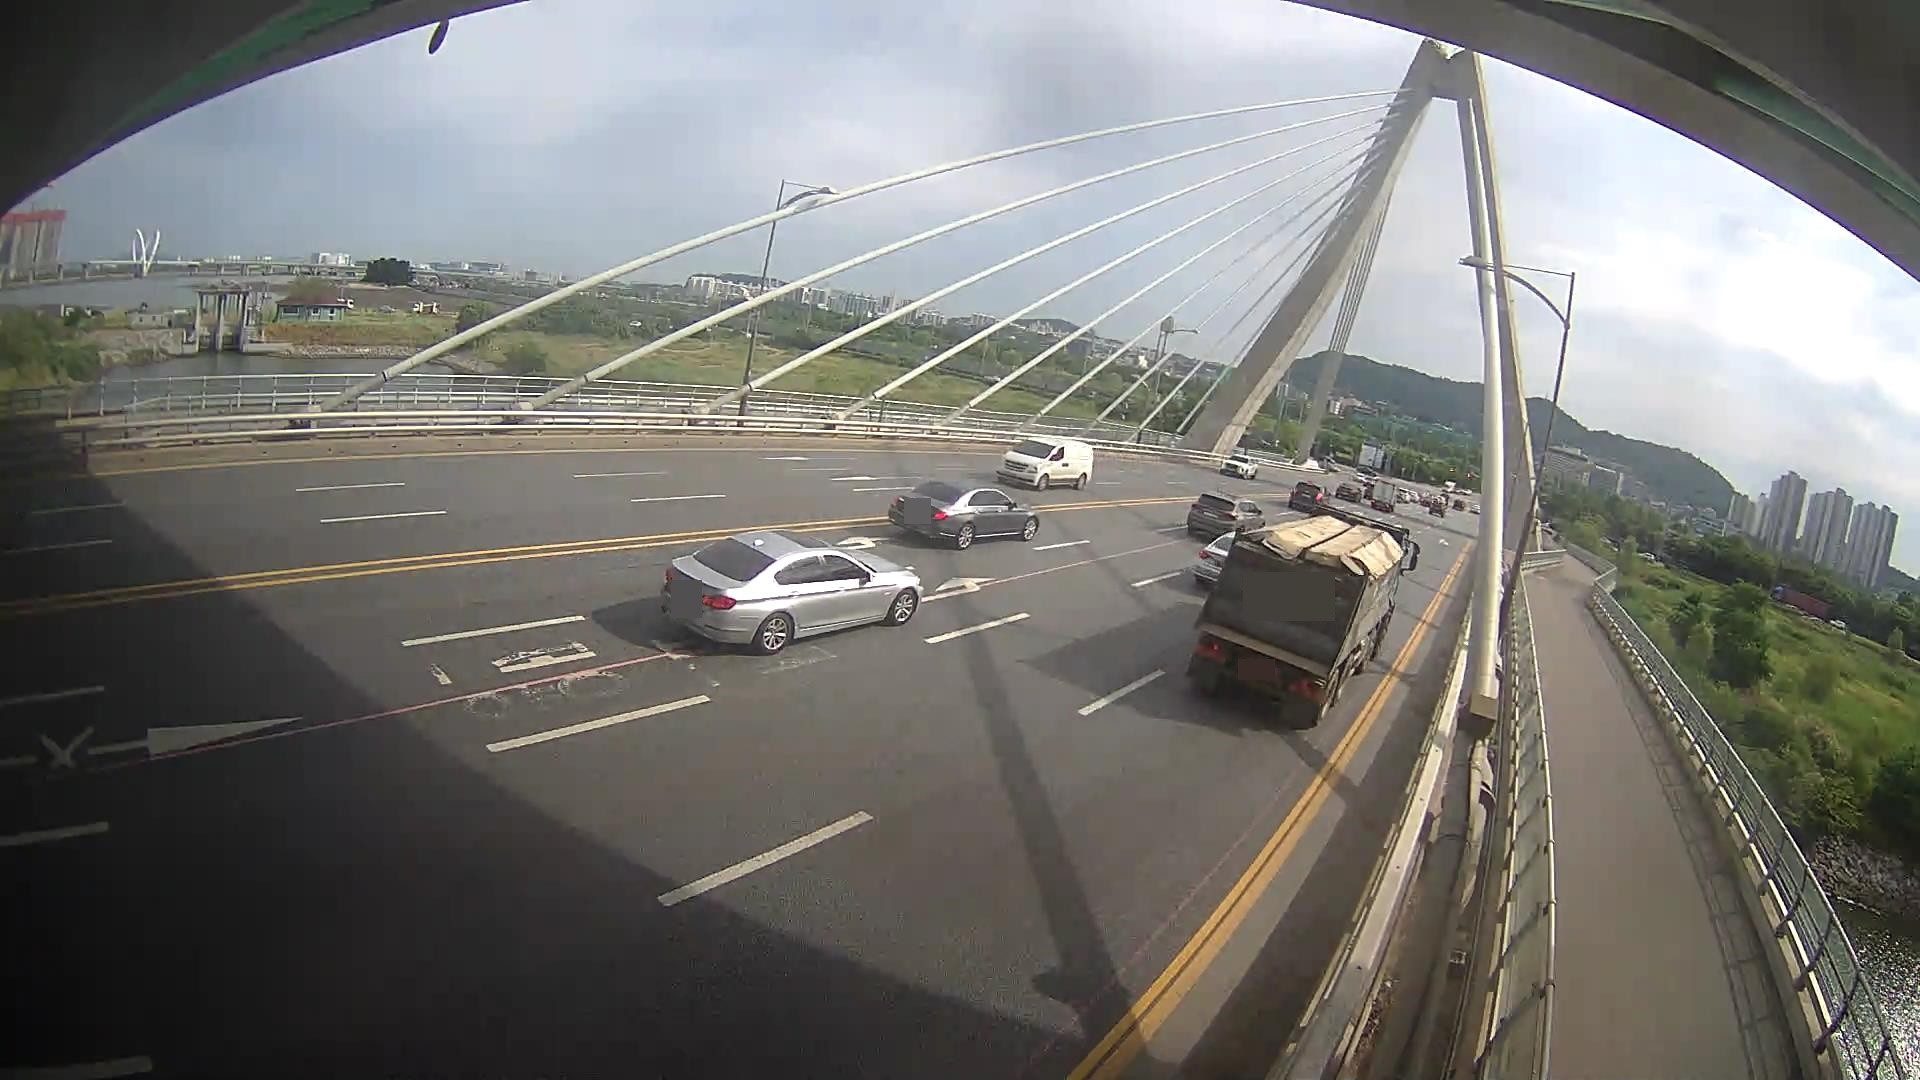정상차량: (1188, 504, 1420, 728)
